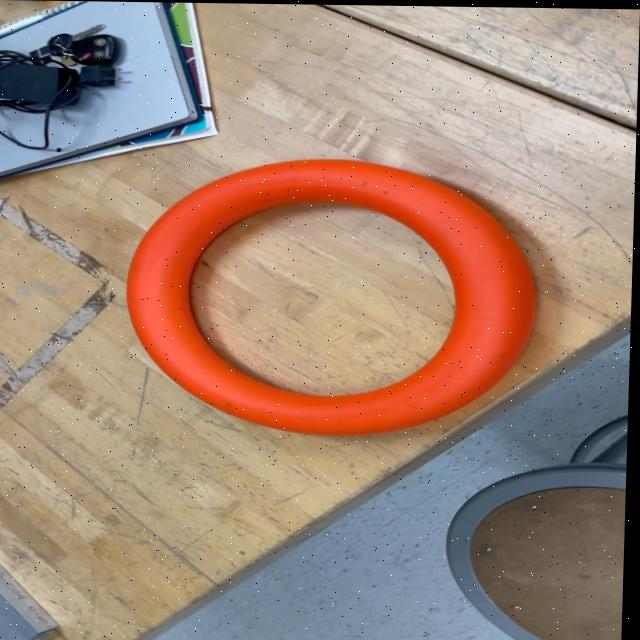note: (124, 153, 550, 437)
